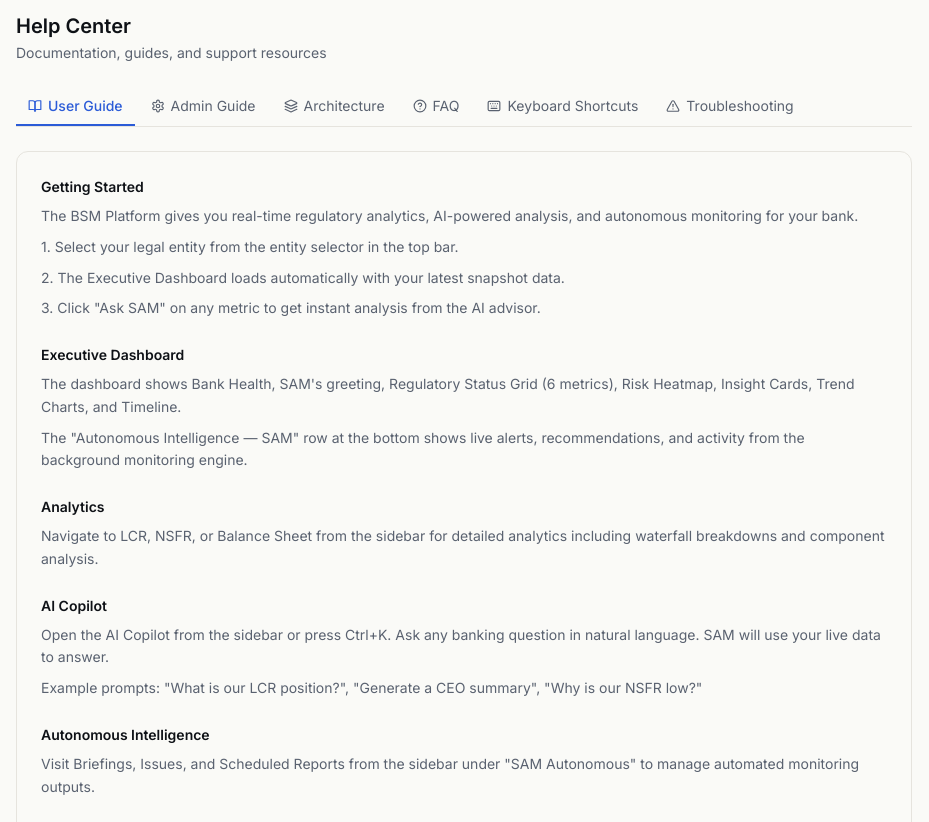
Scenario: HelpCenterPage › clicking Keyboard Shortcuts tab shows shortcut list
Click the button "Keyboard Shortcuts". click: (563, 106)
box: [476,87,650,126]
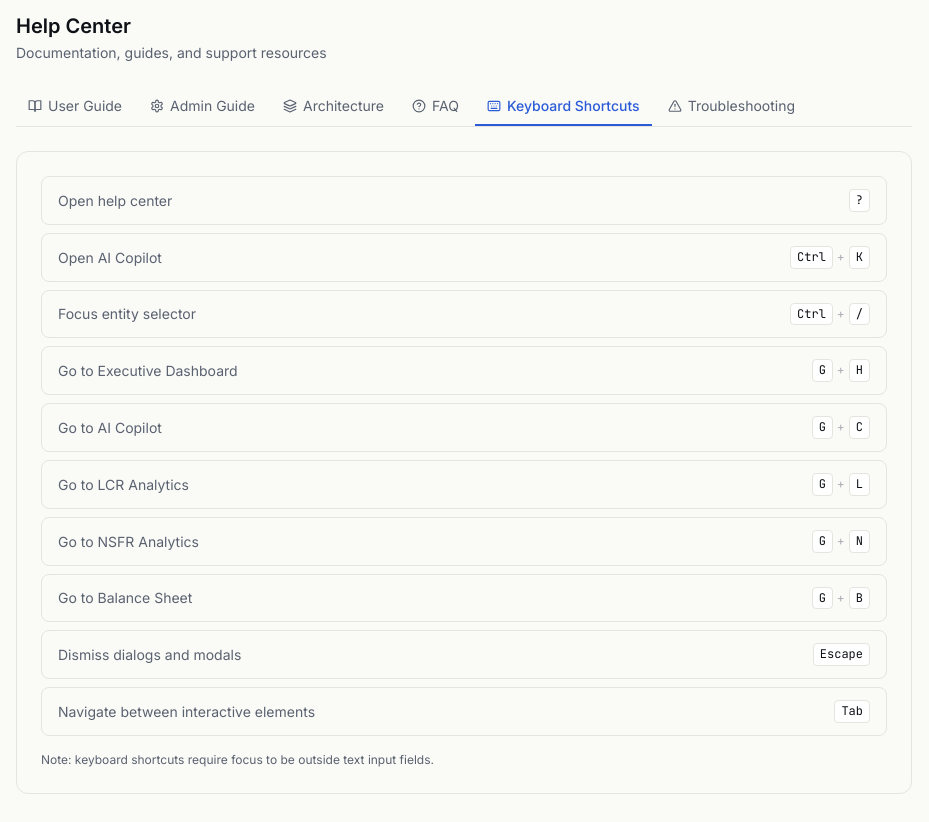
Now the text "Open AI Copilot" is shown, box [58,247,162,268]
